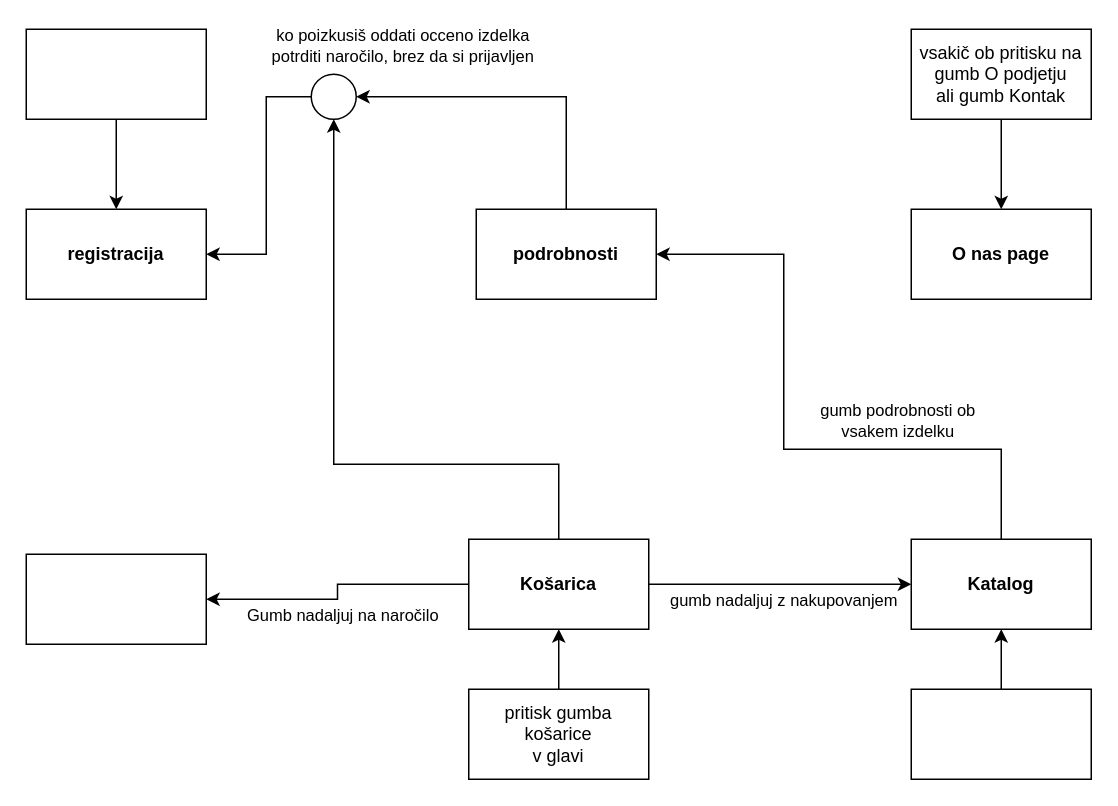
Image size: 1118x806. Some labels were removed from this diagram. The shapes that lost their labels are listed below. From the top down, each one's centre as x and y in pixels, then its label:
At (x=115, y=73): "ob pritisku gumba prijava / registracija v glavi".
At (x=115, y=598): "Oddaja Naročila".
At (x=1000, y=733): "vsakič ob pritisku na gumb katalog".
